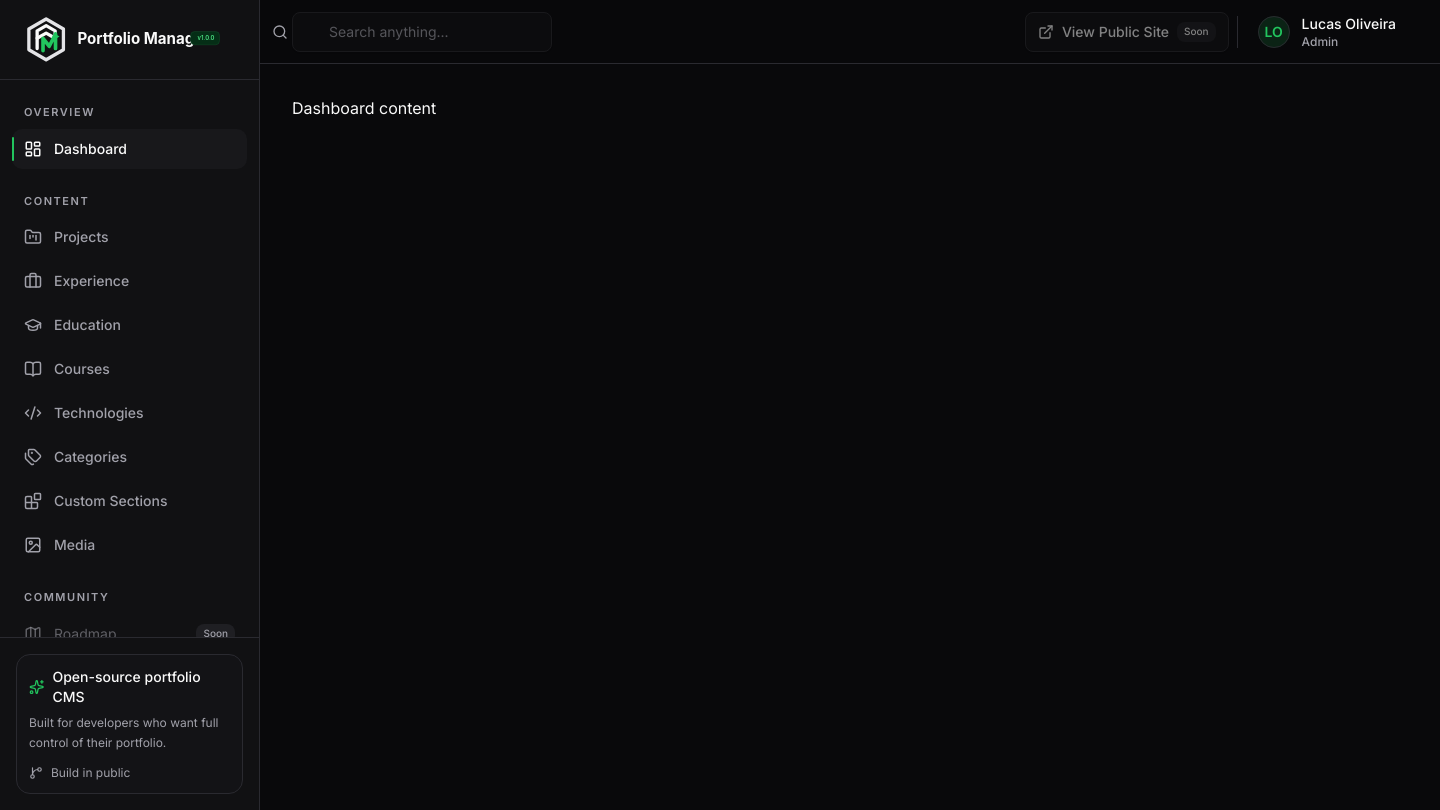
Test case: AdminShell › opens the user menu with account details and sign out
Click the button with aria-label "Open user menu" at (1327, 32), box [1246,10,1408,54]
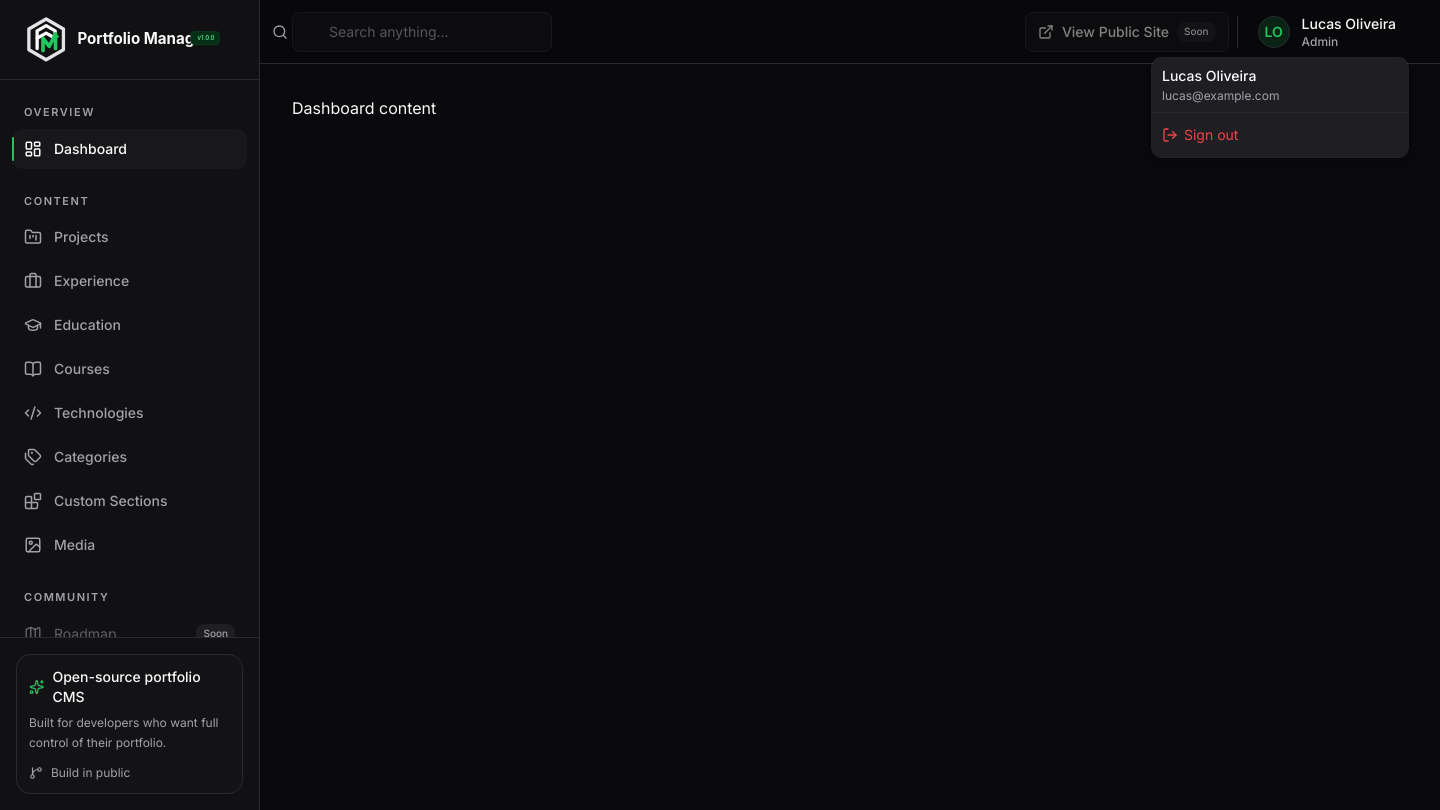
Check: the text "lucas@example.com" is shown, box [1162,88,1279,103]
Check: the menu item "Sign out" is shown, box [1162,126,1238,143]
